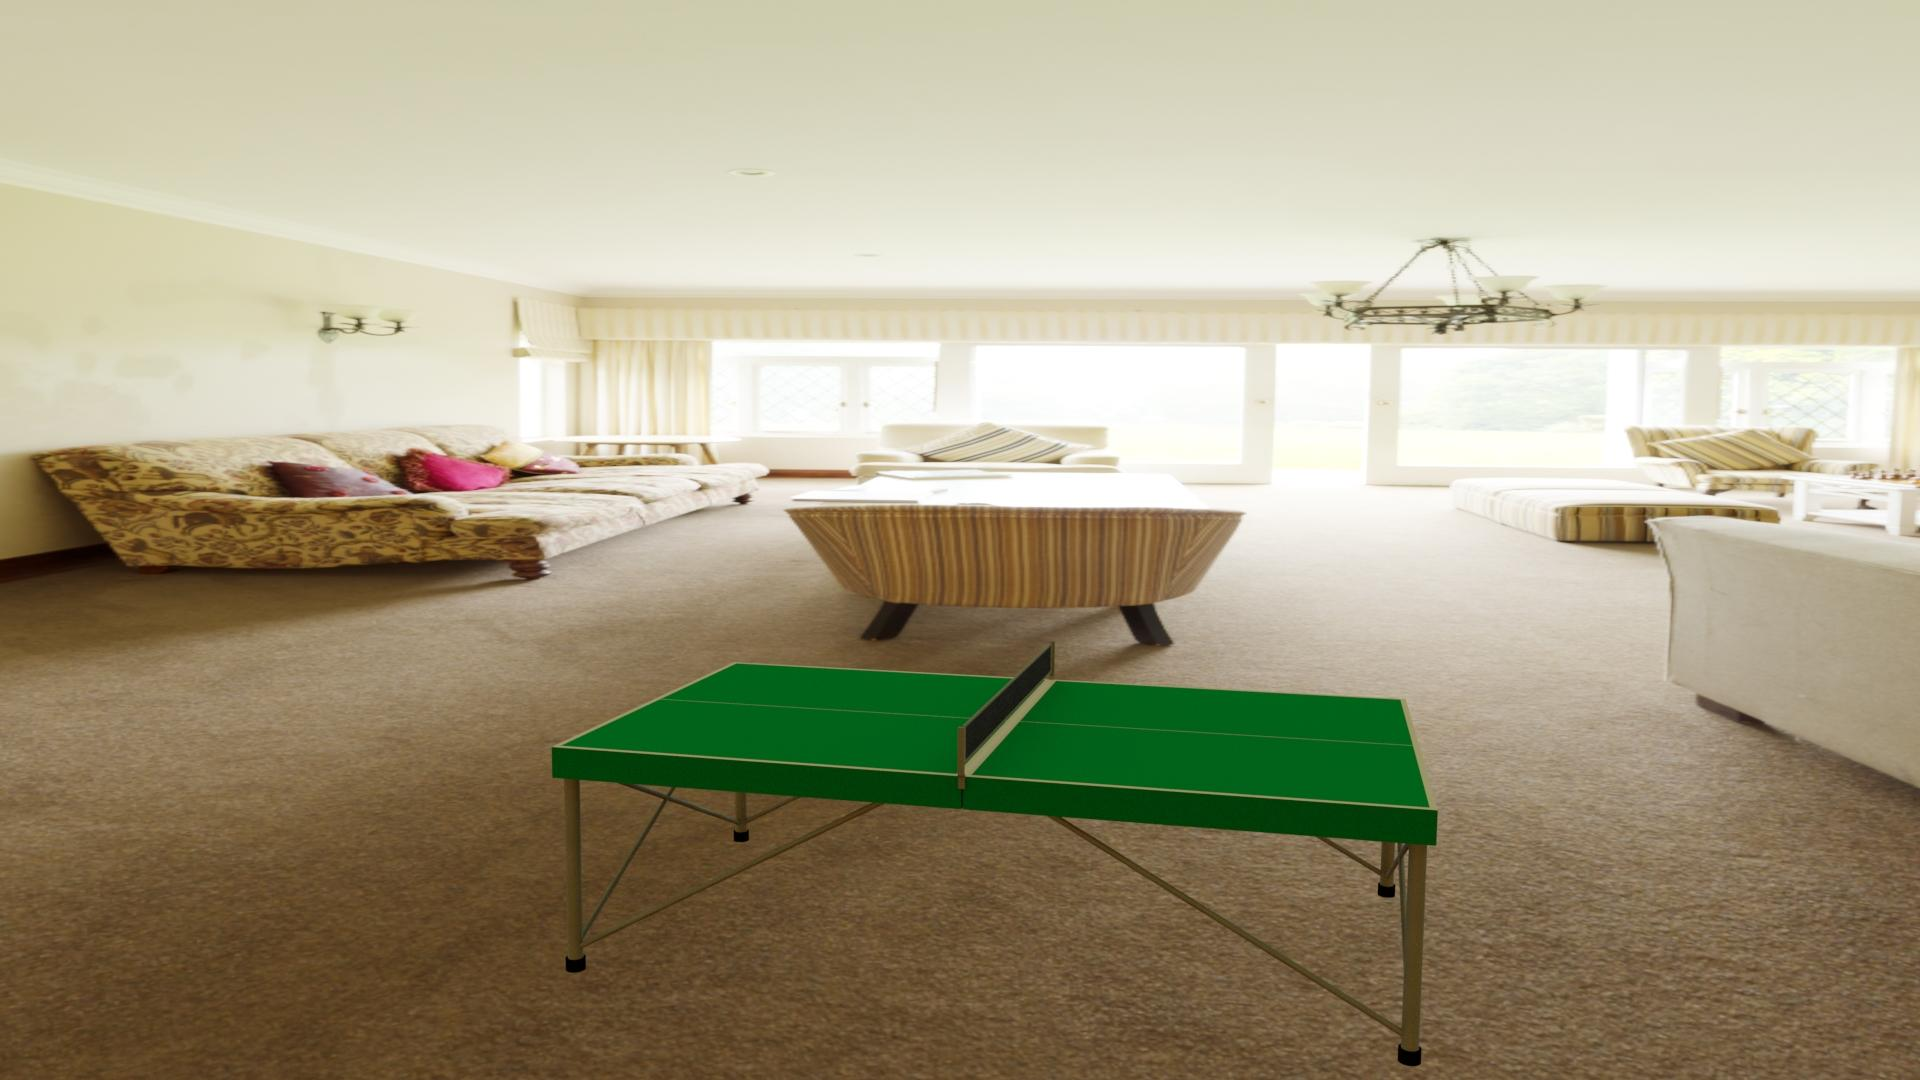table: (560, 663, 1429, 808)
